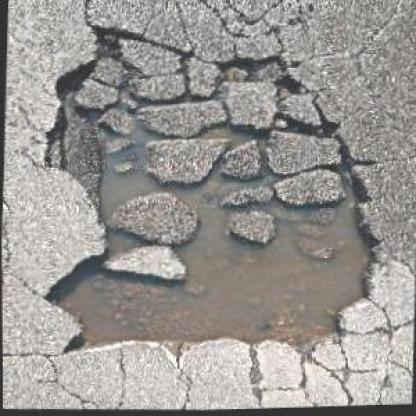pothole: (31, 10, 392, 370)
